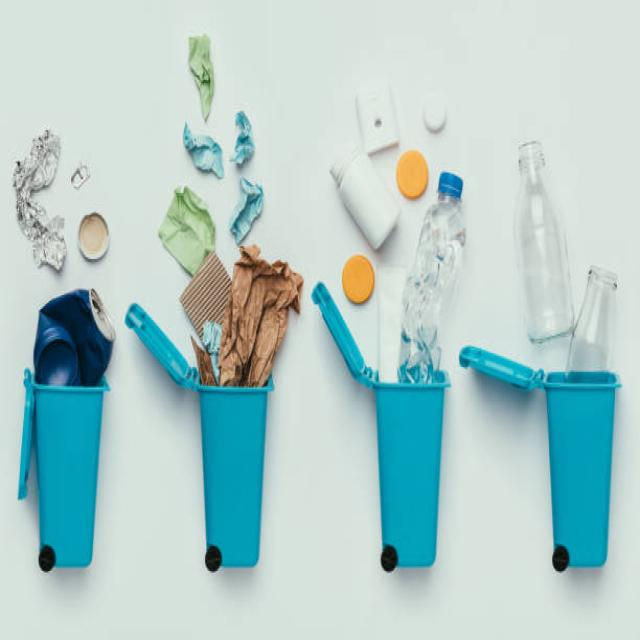glass: (509, 135, 633, 376)
metal: (4, 136, 107, 368)
paper: (165, 44, 269, 384)
plastic: (336, 74, 463, 367)
